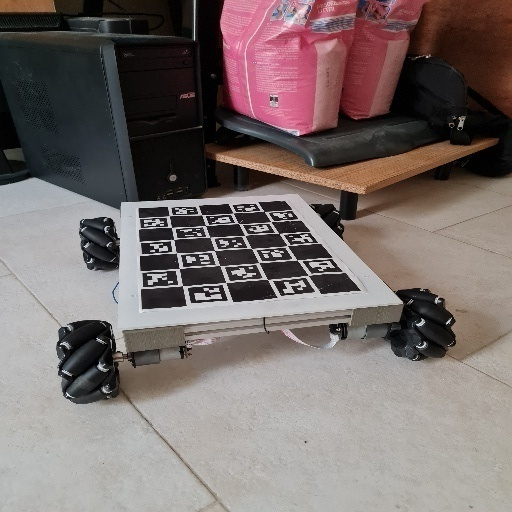Omniwheel: (55, 194, 458, 408)
